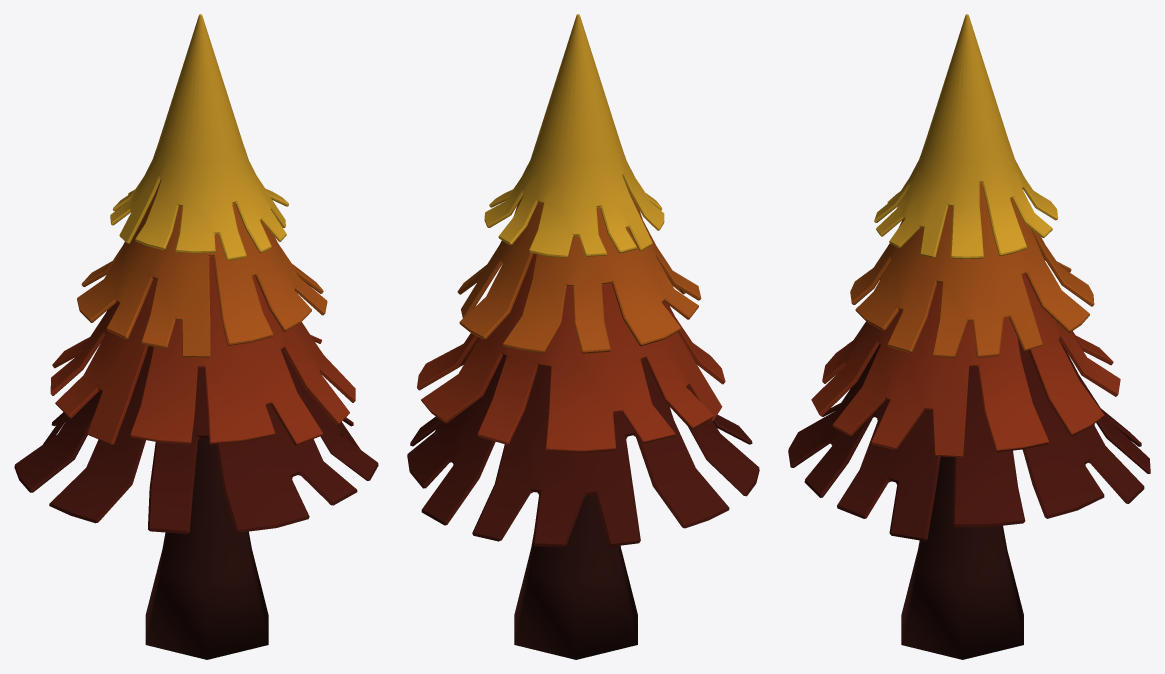
Rendered from autumn tree.fbx.
The picture shows the model from 3 angles, left to right: view 1: azimuth 30°, elevation 25°; view 2: azimuth 150°, elevation 25°; view 3: azimuth 270°, elevation 25°; orthographic projection.
Parts seen in each view (by area): view 1: Cylinder.016, Cylinder.015, Cylinder.018, Cylinder.017, Trunk.004; view 2: Cylinder.015, Cylinder.016, Cylinder.018, Cylinder.017, Trunk.004; view 3: Cylinder.015, Cylinder.016, Cylinder.017, Cylinder.018, Trunk.004.
Boxes of the visible parts, x1,y1,x2,y2 form: Cylinder.016: (50,256,355,445); Cylinder.015: (14,346,378,533); Cylinder.018: (110,14,288,260); Cylinder.017: (77,179,327,357); Trunk.004: (145,438,268,659); Cylinder.015: (407,354,759,547); Cylinder.016: (417,253,725,452); Cylinder.018: (484,14,664,257); Cylinder.017: (457,186,701,353); Trunk.004: (514,494,637,659); Cylinder.015: (788,338,1150,541); Cylinder.016: (811,274,1120,457); Cylinder.017: (850,183,1094,358); Cylinder.018: (874,14,1057,258); Trunk.004: (901,456,1023,659).
Bounding box in the file's own units: 378 × 387 × 723.
